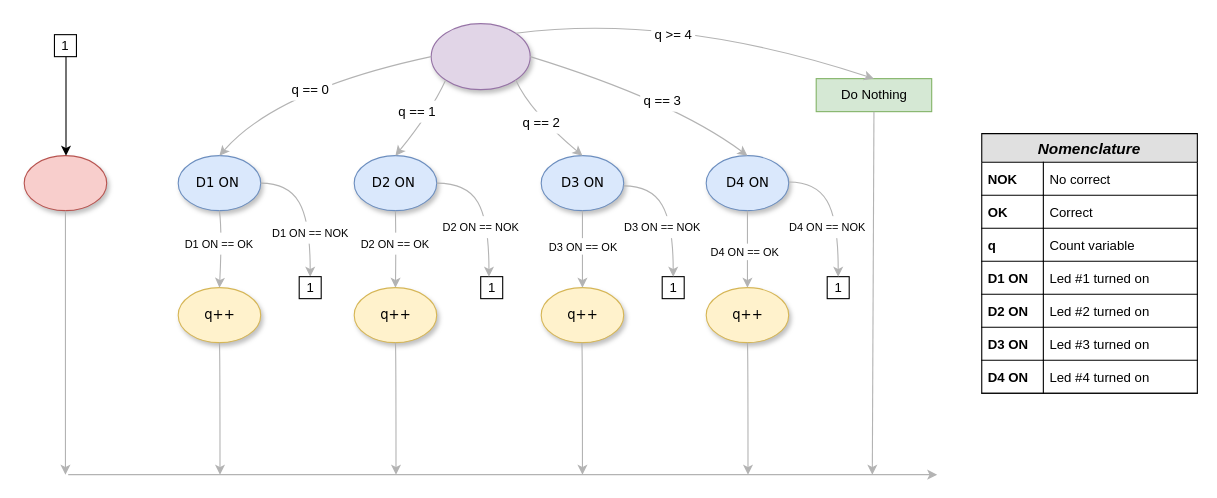
This 1217x498 diagram has some shape labels left out. The shapes that lost their labels are listed below. From the top down, each one's centre as x and y in pixels, then its label:
[481,57]: Selector
[66,184]: Error
